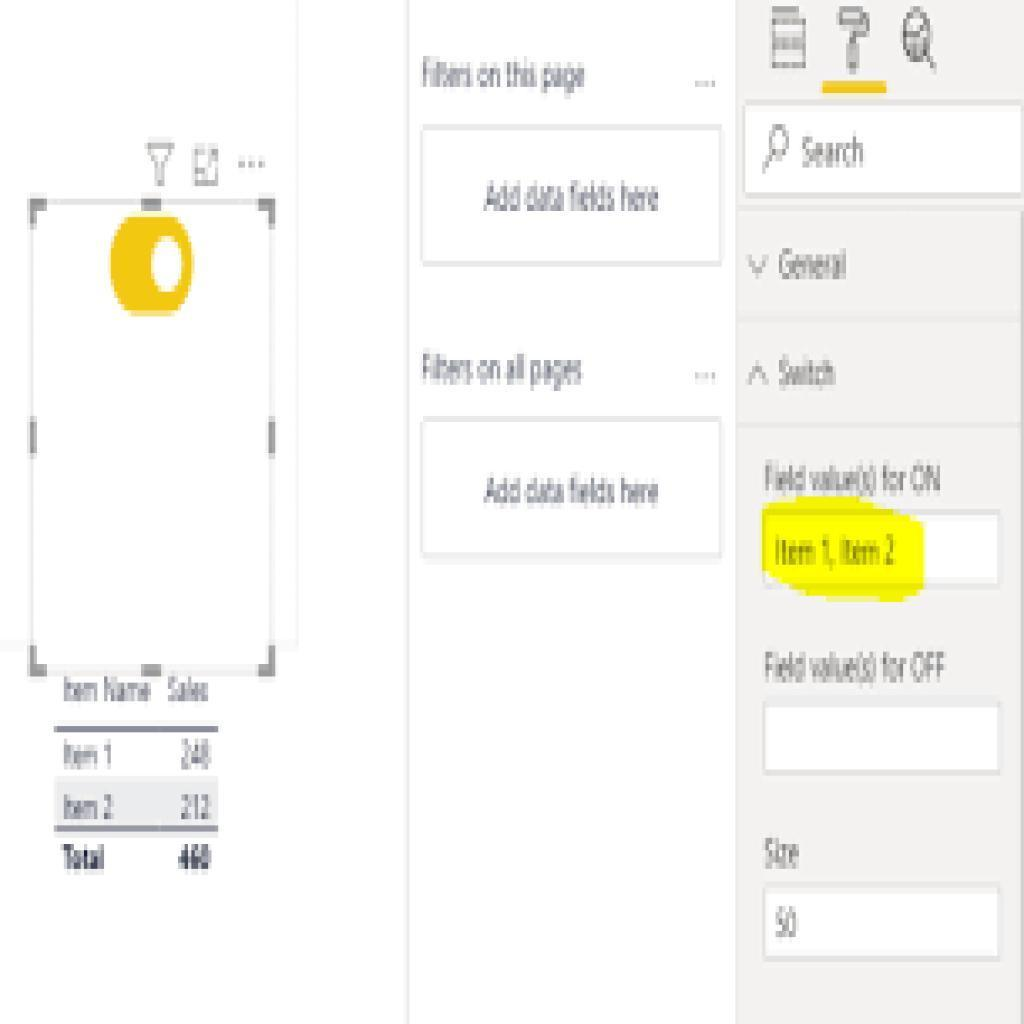dropdown: (737, 207, 1024, 319), (739, 329, 1020, 419)
icon: (828, 2, 879, 80), (767, 2, 813, 78), (898, 7, 943, 78), (758, 121, 795, 180), (144, 138, 179, 192), (192, 144, 221, 191), (232, 152, 272, 178), (688, 367, 723, 389), (691, 75, 722, 93)
input: (742, 101, 1024, 196), (765, 511, 1000, 590), (764, 882, 1002, 960), (765, 705, 1002, 775)
label: (761, 454, 947, 505), (421, 50, 591, 100), (761, 647, 953, 691), (418, 351, 589, 400), (760, 832, 807, 876)
switch: (111, 212, 195, 324)
